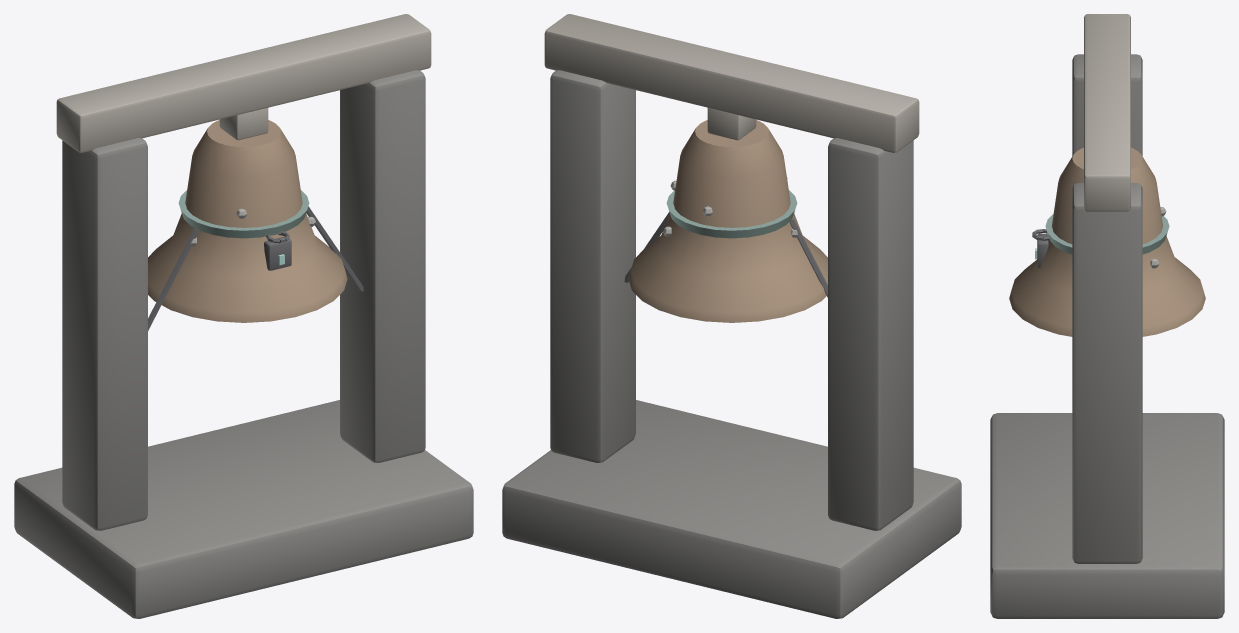
File: quest_drowned_bell.gltf
The picture shows the model from 3 angles, left to right: view 1: azimuth 30°, elevation 25°; view 2: azimuth 150°, elevation 25°; view 3: azimuth 270°, elevation 25°; orthographic projection. The views are drawn at different scales.
Parts seen in each view (by area): view 1: Body, Bell, Chain; view 2: Body, Bell, Chain; view 3: Body, Bell, Chain.
Part boxes in pixels (x1,y1,x2,y2): Body: [14, 14, 473, 618]; Bell: [148, 120, 347, 322]; Chain: [148, 206, 363, 330]; Body: [502, 14, 961, 618]; Bell: [628, 120, 827, 322]; Chain: [624, 212, 827, 297]; Body: [990, 14, 1224, 618]; Bell: [1009, 147, 1205, 336]; Chain: [1032, 229, 1049, 267].
Size of the model in its own units: 3.3 by 4.23 by 2.
